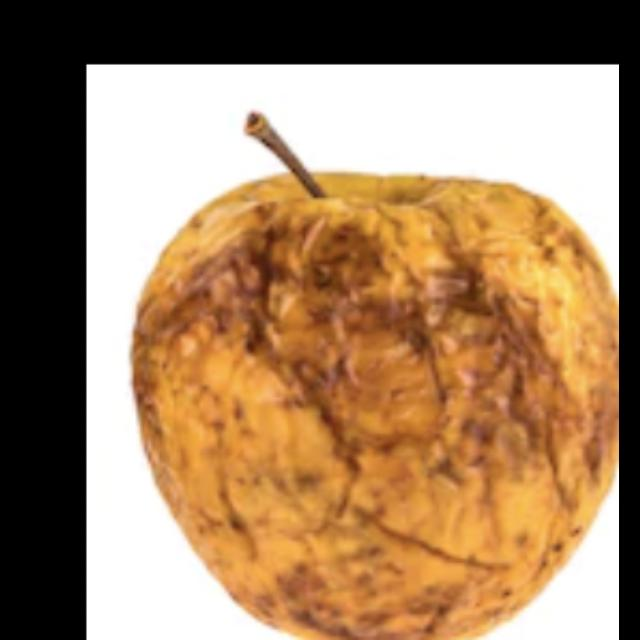Apel Tidak Segar: (128, 166, 618, 640)
